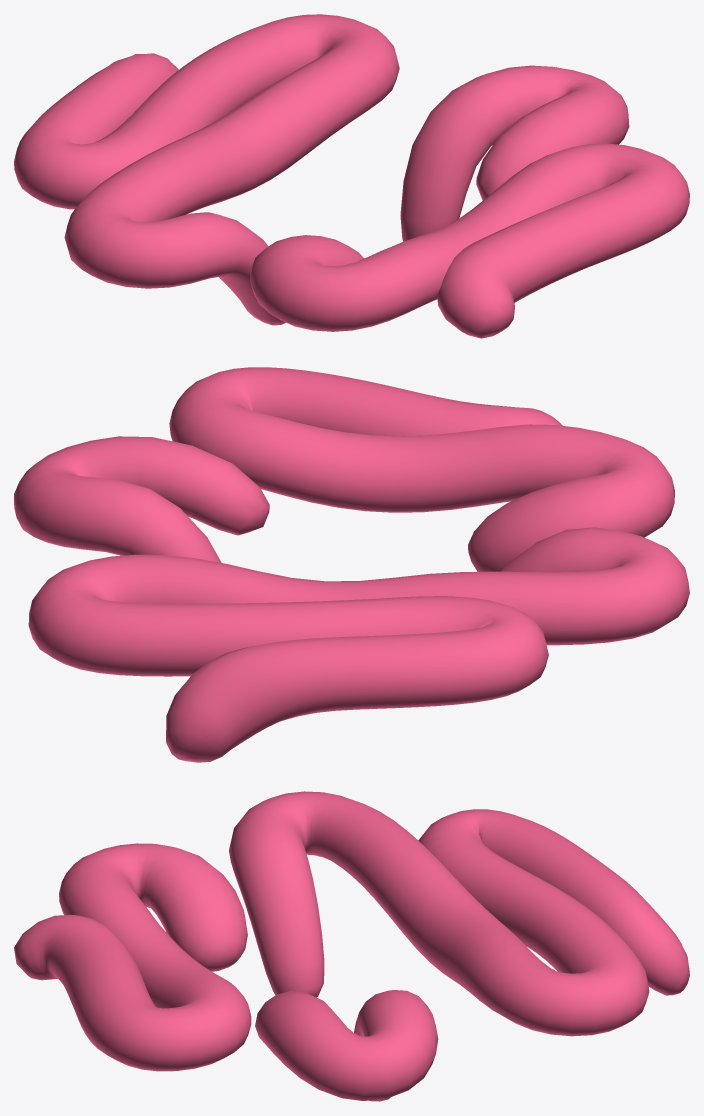
File: Donut_Cream_01.fbx
3 renders of one model, top to bottom at view 1: azimuth 30°, elevation 25°; view 2: azimuth 150°, elevation 25°; view 3: azimuth 270°, elevation 25°, orthographic. The views are drawn at different scales.
Visible parts, largest first — view 1: Donut_Cream_01_LOD0; view 2: Donut_Cream_01_LOD0; view 3: Donut_Cream_01_LOD0.
Boxes of the visible parts, box(x1,y1,x2,y2) form: Donut_Cream_01_LOD0: box(14, 14, 689, 338); Donut_Cream_01_LOD0: box(14, 367, 689, 762); Donut_Cream_01_LOD0: box(14, 791, 689, 1101).
Size of what is drawn, in the model's own units: 503 by 125 by 538.
